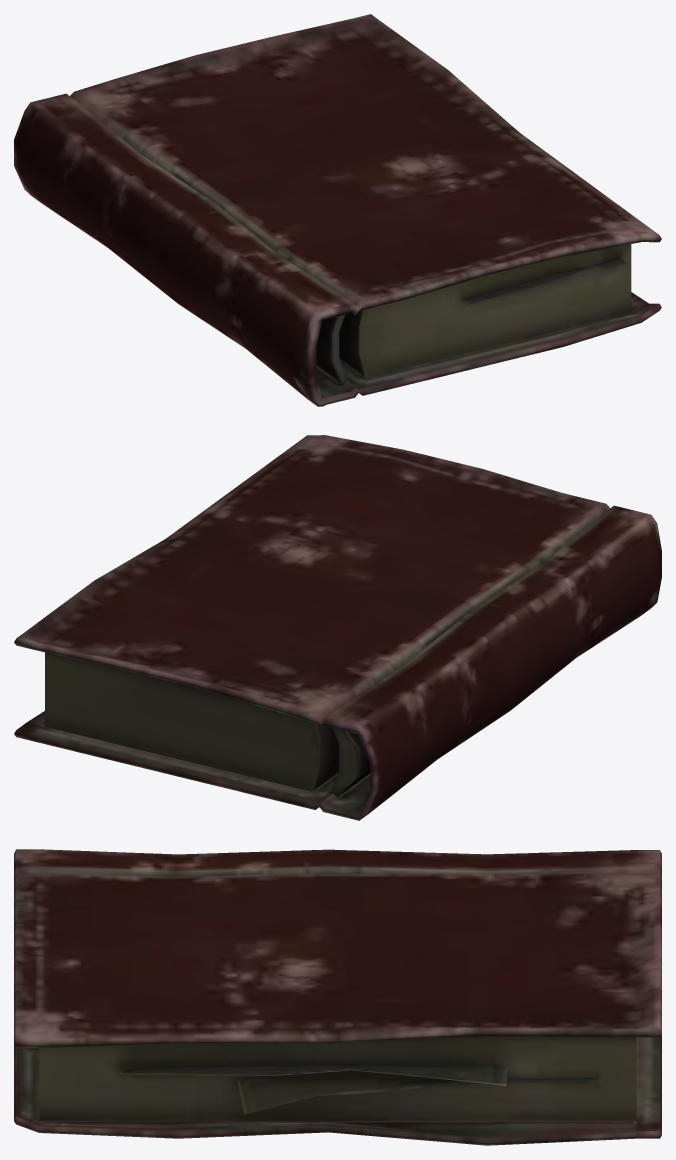
The model's file is obj_old_book.glb.
The picture shows the model from 3 angles, top to bottom: view 1: azimuth 30°, elevation 25°; view 2: azimuth 150°, elevation 25°; view 3: azimuth 270°, elevation 25°; orthographic projection. The views are drawn at different scales.
Visible parts, largest first — view 1: Object_3; view 2: Object_3; view 3: Object_3.
Part boxes in pixels (<box>): Object_3: <box>14,14,661,406</box>; Object_3: <box>14,435,661,820</box>; Object_3: <box>14,849,661,1145</box>.
Bounding box in the file's own units: 0.1939 × 0.0523 × 0.26.
1 material, 1 textured.
